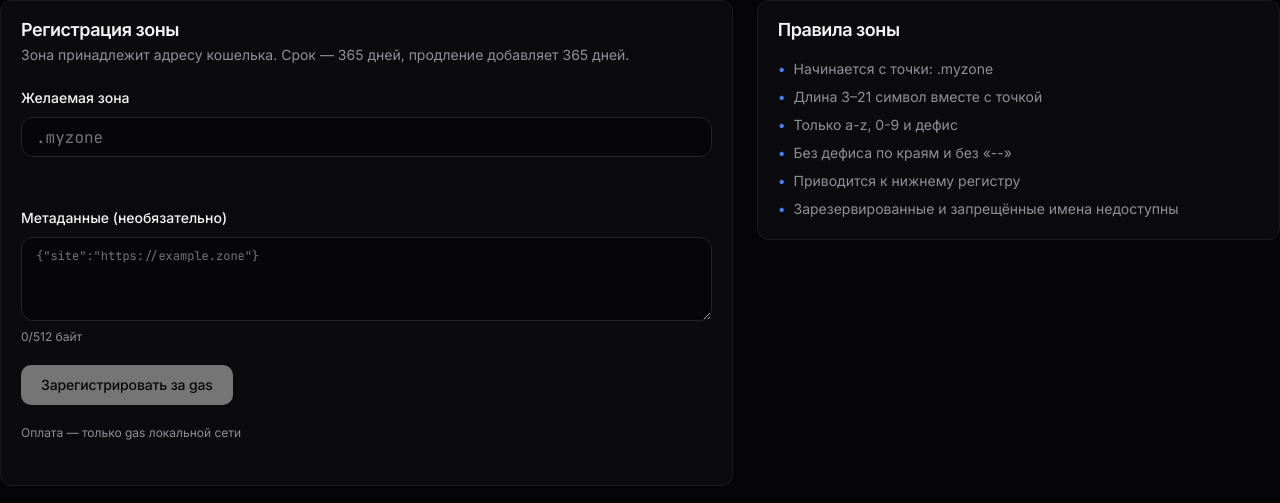
Test case: UI: форма регистрации › показывает причину недоступности занятой зоны
Type ".taken" into the field labelled "Желаемая зона".
click(366, 137); type(".taken")  # box top-left (21, 117), bottom-right (712, 157)
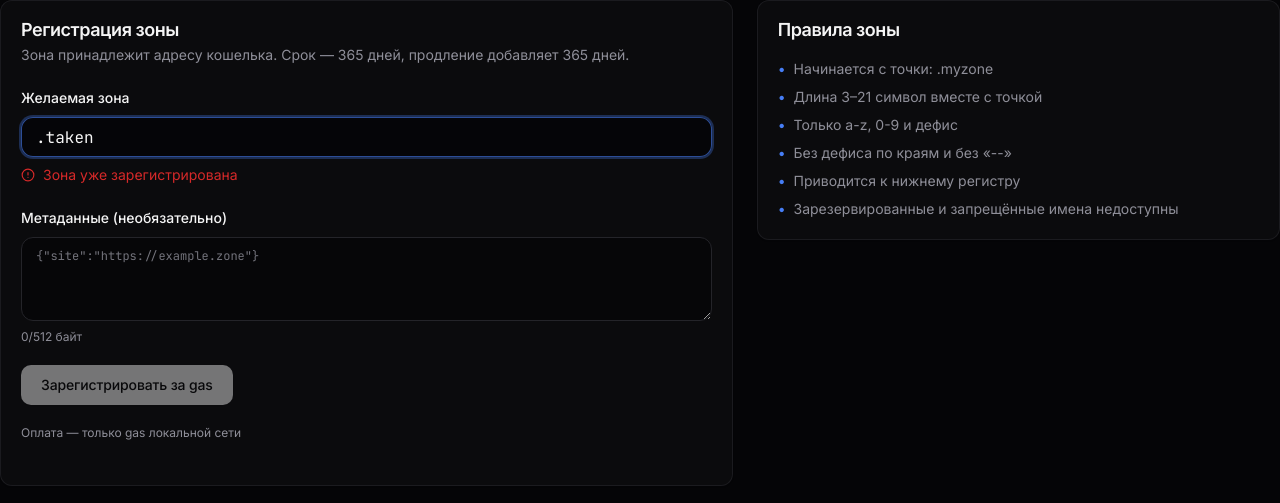
Expected: the button "Зарегистрировать за gas" is disabled, top-left (21, 365), bottom-right (233, 405)
Now the text "Зона уже зарегистрирована" is shown, box top-left (21, 166), bottom-right (238, 183)
